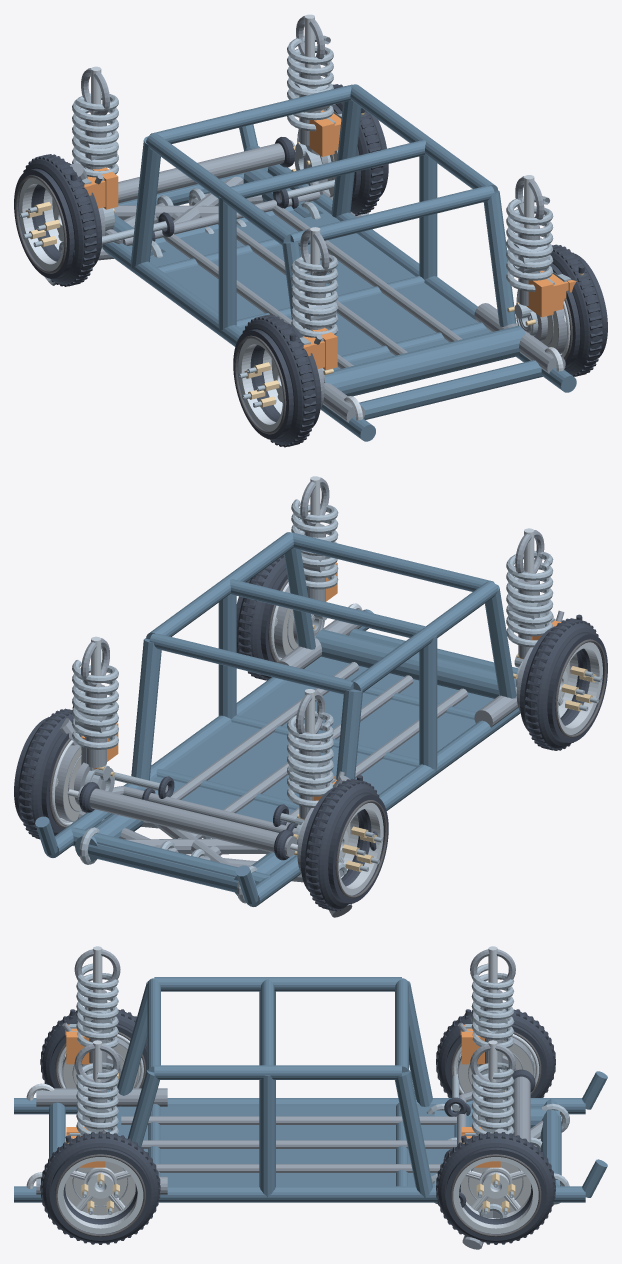
Rendered from fwd-i4-batch-01.glb.
3 views of the same model, one above another, from view 1: azimuth 30°, elevation 25°; view 2: azimuth 150°, elevation 25°; view 3: azimuth 270°, elevation 25° (orthographic). The views are drawn at different scales.
Visible parts, largest first — view 1: body.biw, body.floor.pan, chassis.torsion.beam, wheel.rl.tire, wheel.fl.tire, wheel.rr.tire, chassis.spring.rr, chassis.spring.rl, chassis.subframe.front, chassis.spring.fl, chassis.steering.rack, chassis.spring.fr (+16 smaller); view 2: body.biw, body.floor.pan, wheel.rl.tire, wheel.fl.tire, chassis.subframe.front, chassis.torsion.beam, chassis.steering.rack, wheel.fr.tire, chassis.spring.rl, chassis.spring.fl, chassis.spring.fr, wheel.rr.tire (+12 smaller); view 3: body.biw, body.floor.pan, wheel.rr.tire, wheel.fr.tire, wheel.fl.tire, chassis.spring.fl, chassis.spring.rl, chassis.spring.rr, chassis.spring.fr, wheel.rr.rim, wheel.fr.rim, wheel.rl.tire (+18 smaller).
Boxes of the visible parts, bbox=[...] form: body.biw: bbox=[102, 84, 576, 441]; body.floor.pan: bbox=[128, 201, 491, 370]; chassis.torsion.beam: bbox=[323, 303, 565, 422]; wheel.rl.tire: bbox=[233, 314, 321, 447]; wheel.fl.tire: bbox=[14, 154, 101, 286]; wheel.rr.tire: bbox=[550, 244, 607, 376]; chassis.spring.rr: bbox=[506, 176, 553, 291]; chassis.spring.rl: bbox=[291, 228, 338, 337]; chassis.subframe.front: bbox=[113, 168, 323, 257]; chassis.spring.fl: bbox=[72, 68, 118, 177]; chassis.steering.rack: bbox=[118, 137, 295, 203]; chassis.spring.fr: bbox=[287, 16, 333, 131]; body.biw: bbox=[35, 532, 520, 906]; body.floor.pan: bbox=[139, 656, 493, 825]; wheel.rl.tire: bbox=[520, 618, 607, 750]; wheel.fl.tire: bbox=[300, 778, 388, 911]; chassis.subframe.front: bbox=[75, 788, 295, 903]; chassis.torsion.beam: bbox=[277, 603, 518, 727]; chassis.steering.rack: bbox=[67, 782, 297, 860]; wheel.fr.tire: bbox=[14, 708, 73, 839]; chassis.spring.rl: bbox=[506, 530, 553, 647]; chassis.spring.fl: bbox=[287, 690, 333, 807]; chassis.spring.fr: bbox=[72, 638, 118, 749]; wheel.rr.tire: bbox=[236, 555, 288, 680]; body.biw: bbox=[14, 977, 607, 1202]; body.floor.pan: bbox=[116, 1106, 479, 1186]; wheel.rr.tire: bbox=[40, 1131, 160, 1244]; wheel.fr.tire: bbox=[436, 1131, 555, 1244]; wheel.fl.tire: bbox=[436, 1009, 555, 1097]; chassis.spring.fl: bbox=[470, 949, 515, 1048]; chassis.spring.rl: bbox=[74, 949, 120, 1048]; chassis.spring.rr: bbox=[74, 1044, 120, 1134]; chassis.spring.fr: bbox=[470, 1044, 515, 1135]; wheel.rr.rim: bbox=[57, 1157, 143, 1233]; wheel.fr.rim: bbox=[453, 1157, 538, 1233]; wheel.rl.tire: bbox=[40, 1009, 147, 1088].
Size of the model in its own units: 2.4 by 1.42 by 3.98.
